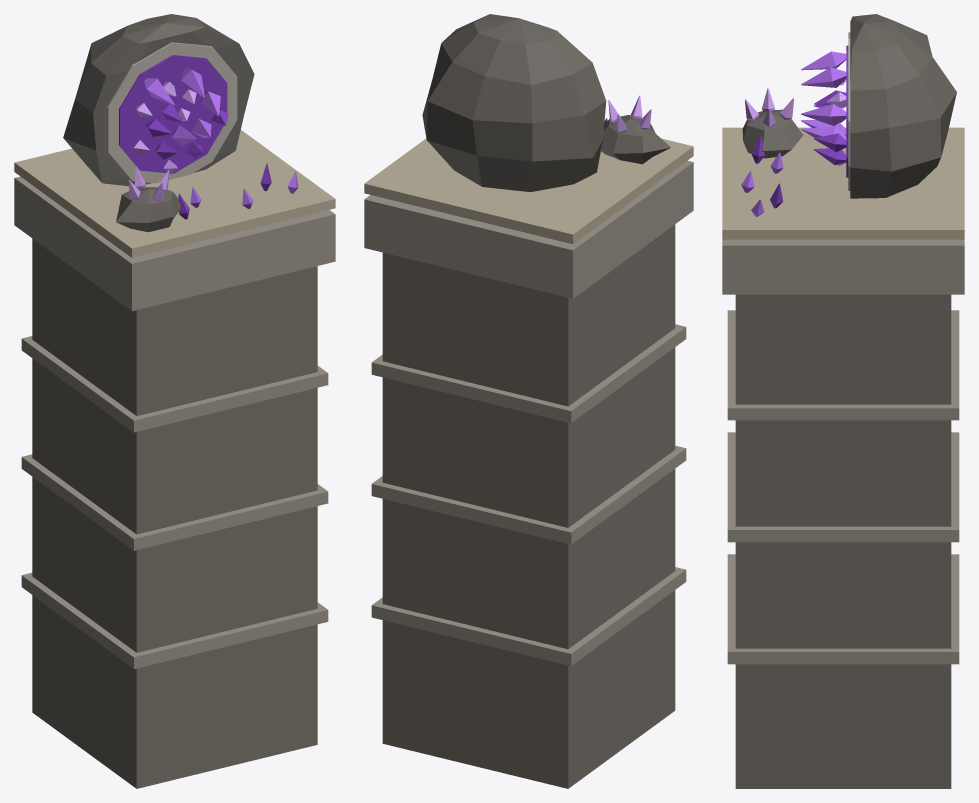
The model's file is decor_geode.glb.
3 views of the same model, side by side, from view 1: azimuth 30°, elevation 25°; view 2: azimuth 150°, elevation 25°; view 3: azimuth 270°, elevation 25° (orthographic). The views are drawn at different scales.
Parts seen in each view (by area): view 1: decor_geode; view 2: decor_geode; view 3: decor_geode.
Boxes of the visible parts, x1,y1,x2,y2 form: decor_geode: [14, 14, 335, 788]; decor_geode: [364, 14, 693, 788]; decor_geode: [722, 14, 964, 788].
Bounding box in the file's own units: 1.8 × 5.9 × 1.8.
